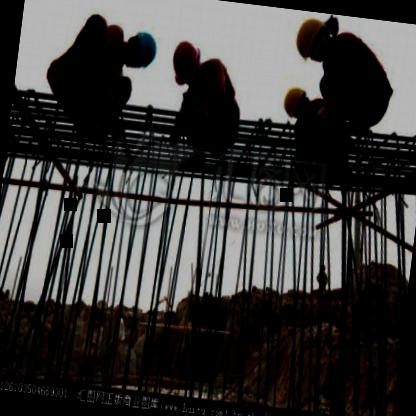helmet: (289, 17, 334, 63), (165, 38, 206, 87), (121, 27, 160, 72), (282, 86, 311, 120)
